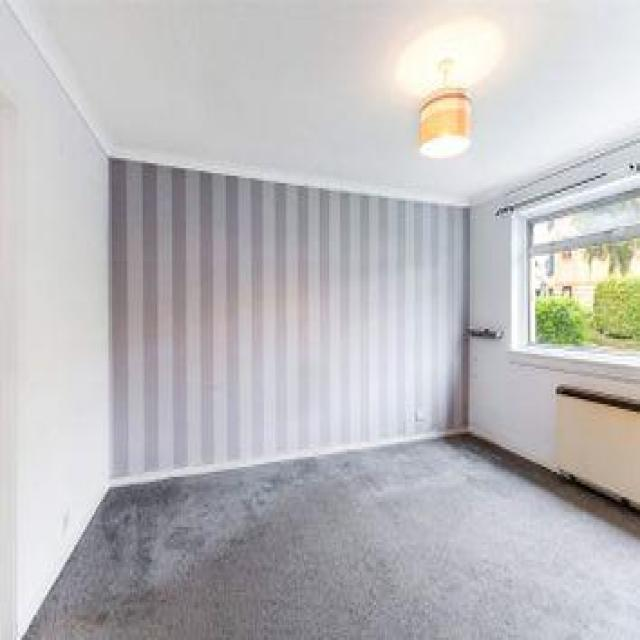Wall: (0, 0, 640, 638), (11, 4, 640, 202), (26, 436, 640, 638)
